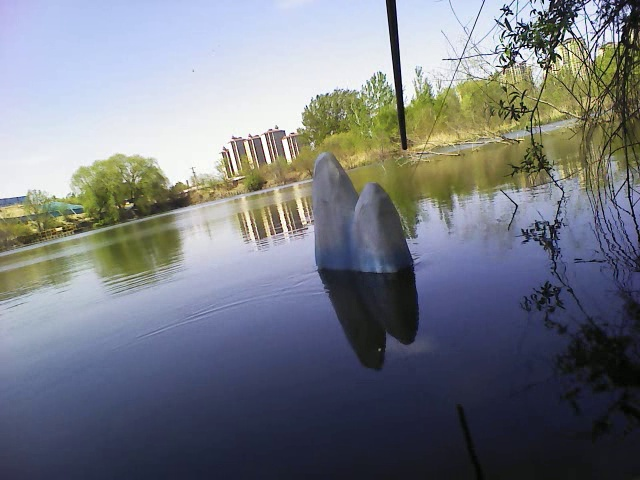iceberg: (310, 145, 420, 280)
